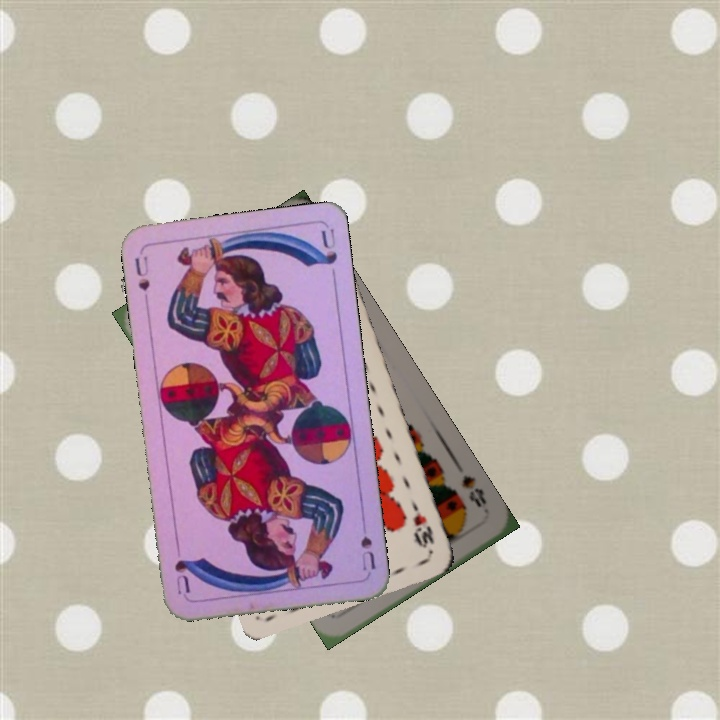H10: (407, 496, 437, 551)
S8: (457, 471, 490, 510)
SU: (357, 515, 378, 573), (131, 251, 152, 308)
